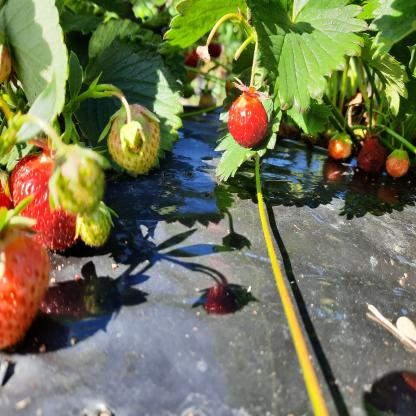ripe: (8, 156, 86, 248), (0, 216, 53, 343), (232, 94, 262, 148)
unripe: (106, 104, 163, 167), (55, 154, 100, 209), (76, 202, 105, 249), (330, 134, 353, 161), (387, 151, 408, 173)
